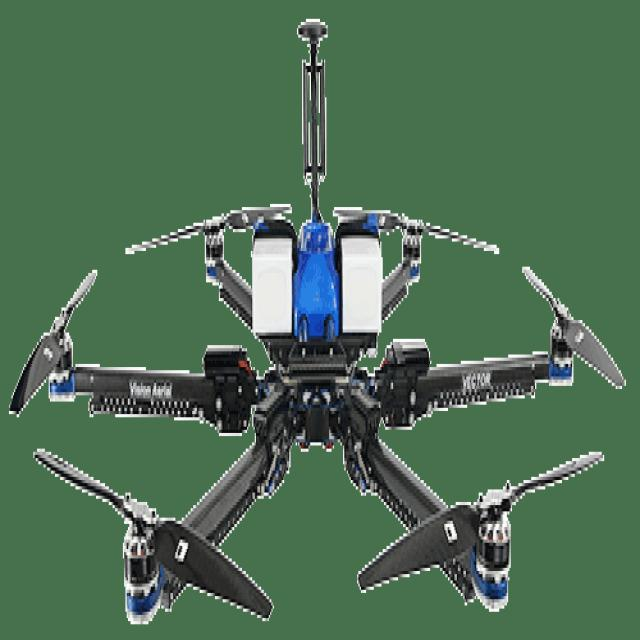drone: (0, 132, 603, 640)
